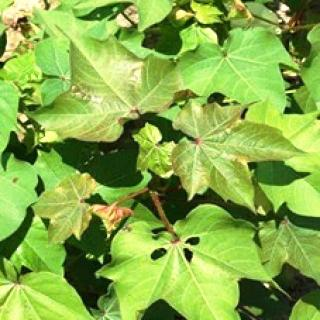curl: (40, 40, 190, 132), (198, 101, 272, 209), (38, 177, 140, 233)
